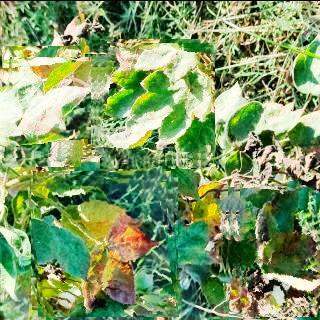blight: (31, 169, 179, 316), (221, 182, 320, 316), (0, 56, 91, 157)
curl: (90, 42, 211, 164)
